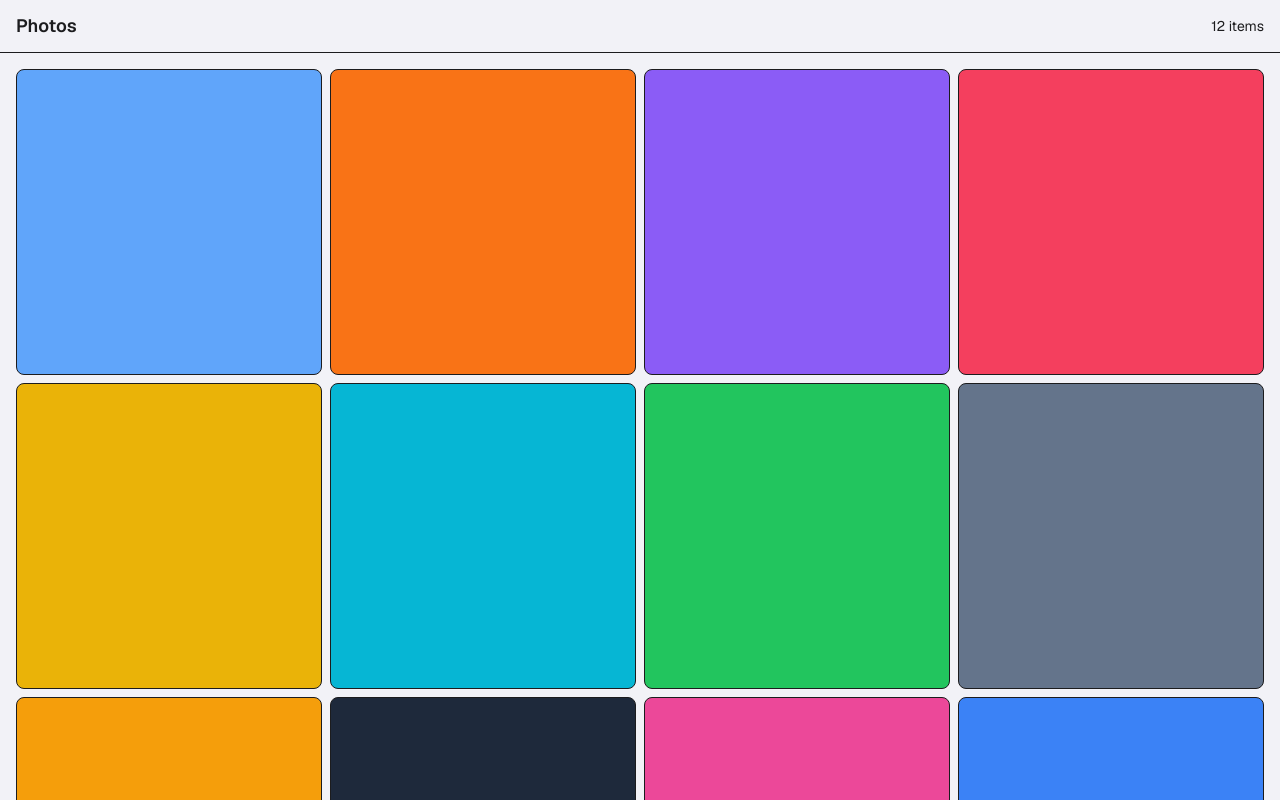
Test case: Photos › opens the lightbox when a photo is clicked
Click the button with test id "photos-item-3" at (797, 222), box [644,69,950,375]
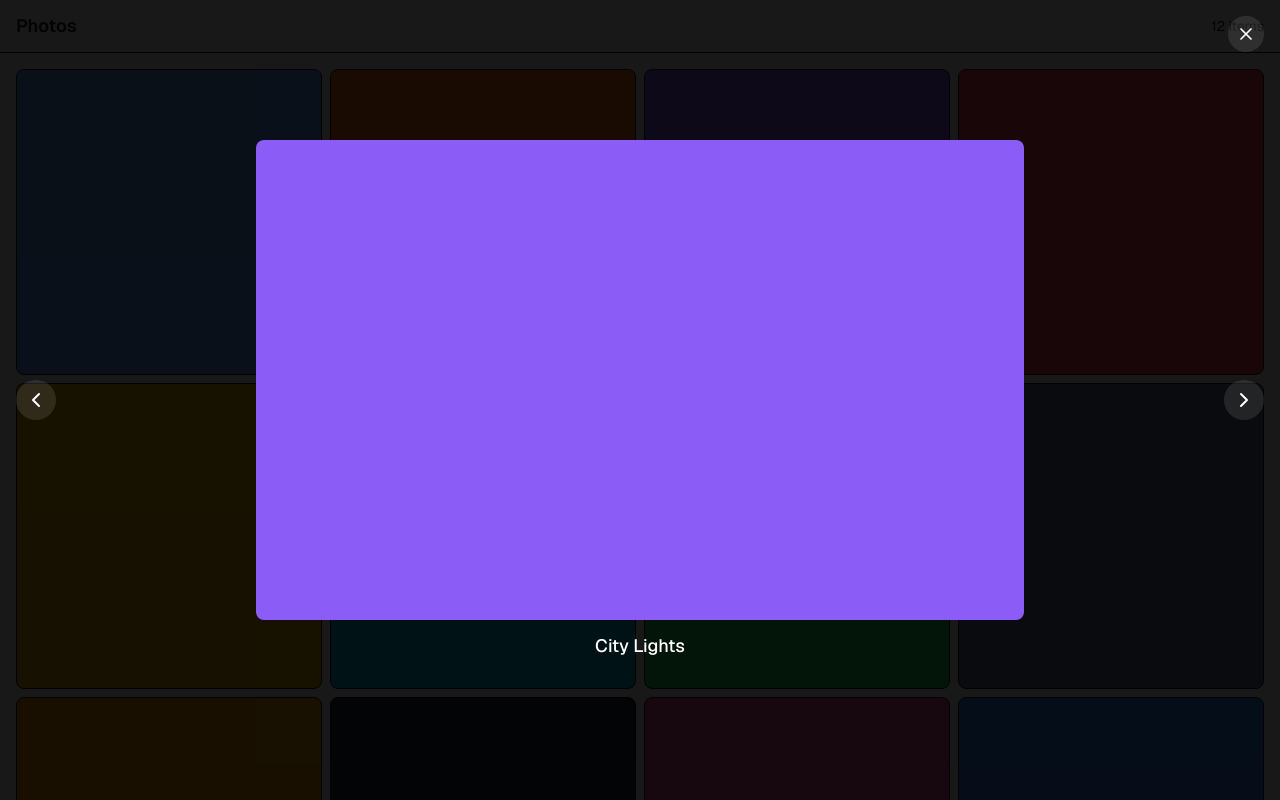
Expected: the element with test id "photos-lightbox" is shown
Expected: the element with test id "photos-lightbox-image" is shown, [256,140,1024,620]
Expected: the text with test id "photos-lightbox-title" reads "City Lights", [595,634,685,657]
